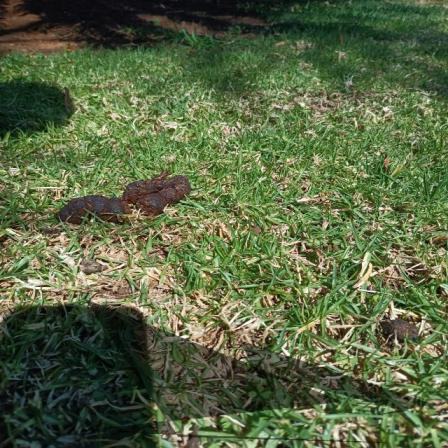dog-poop: (52, 176, 196, 226)
